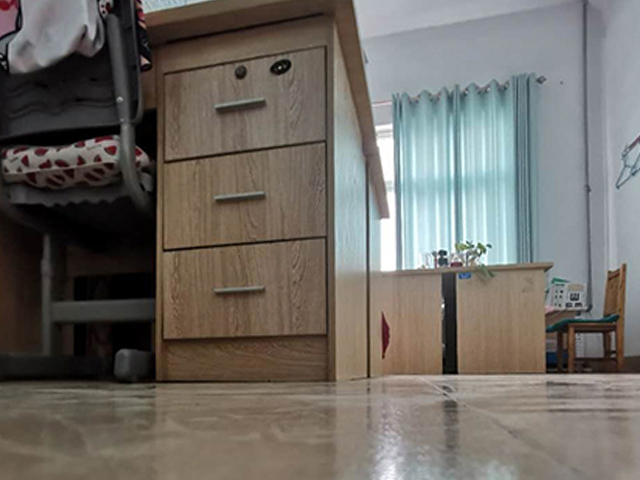curtain: (391, 71, 537, 263)
stool: (1, 1, 156, 384), (554, 261, 631, 375)
table: (1, 1, 392, 384), (377, 260, 556, 376)
